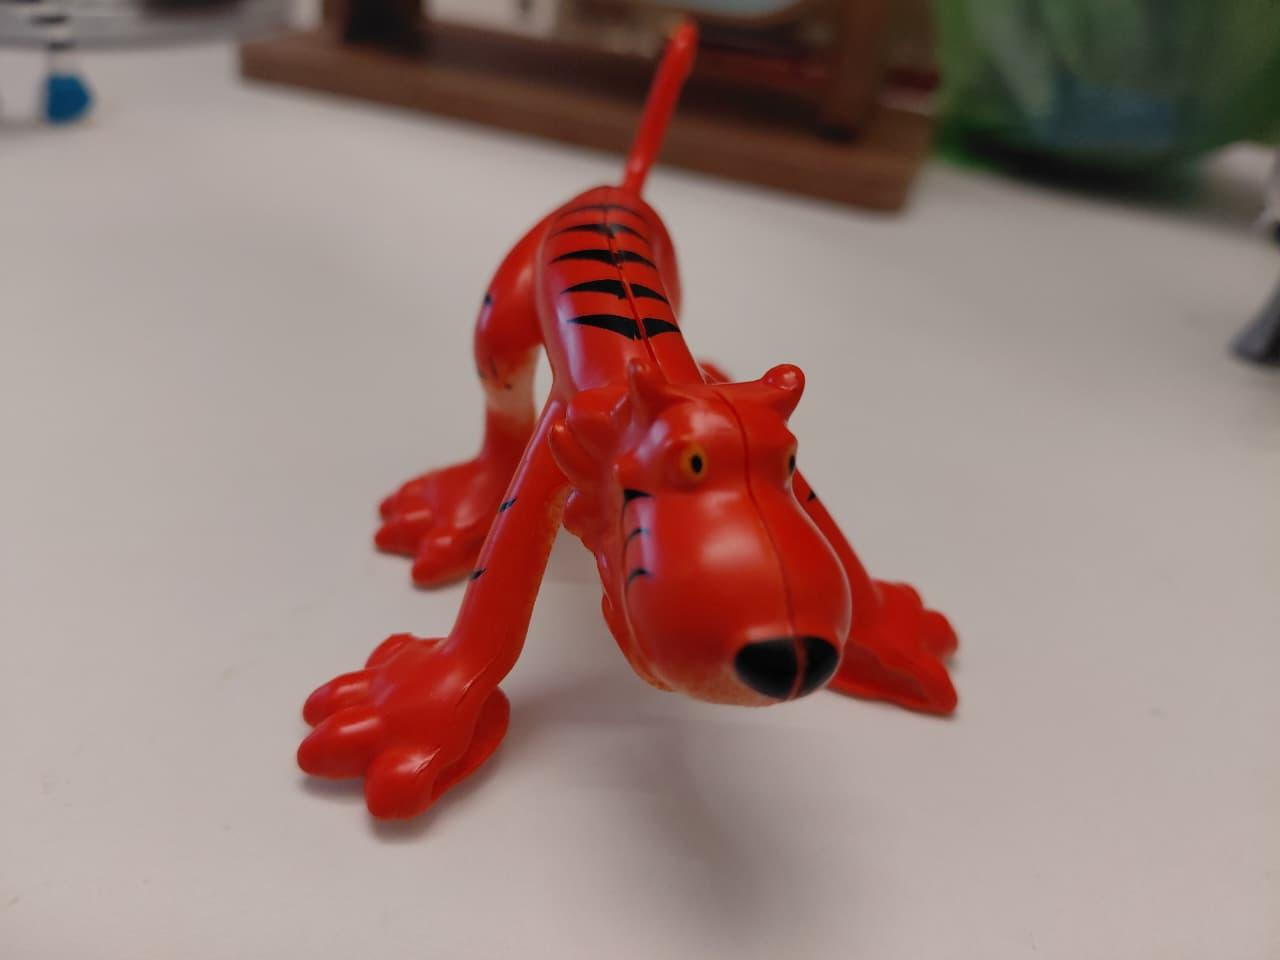tiger: (236, 20, 1003, 833)
